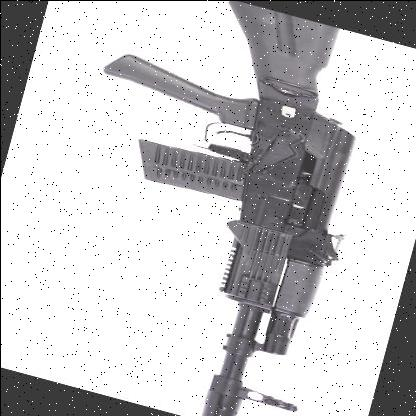rifle: (25, 0, 416, 416)
